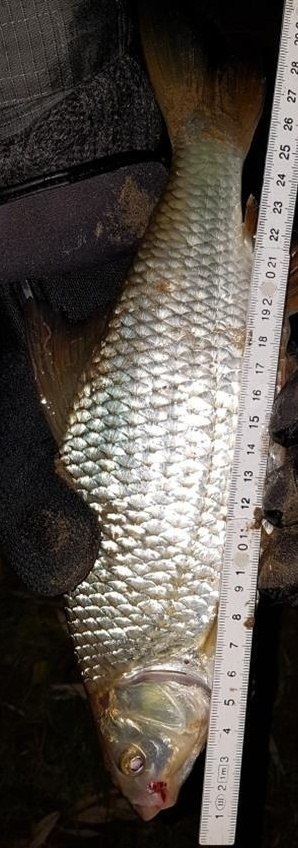Rutilus rutilus: (20, 20, 278, 828)
